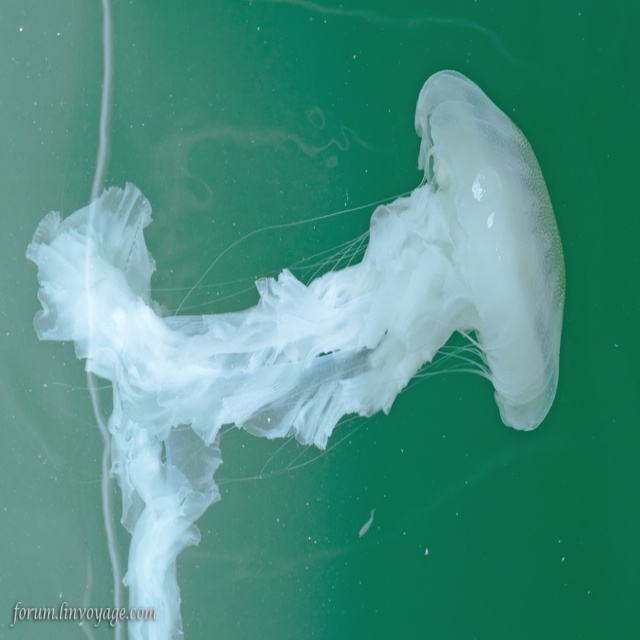Jellyfish: (39, 81, 547, 572)
